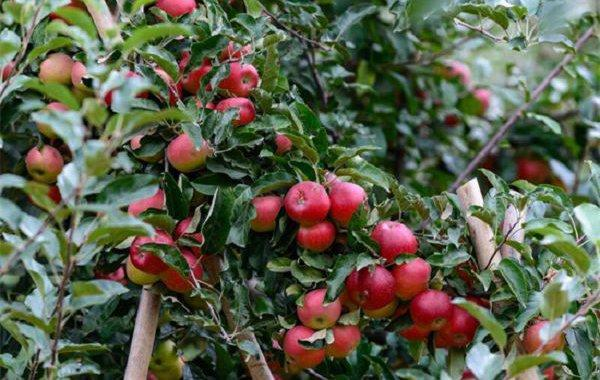apple: (295, 287, 341, 330), (281, 324, 324, 369), (284, 181, 330, 223), (352, 268, 394, 311), (369, 220, 416, 258), (159, 251, 203, 291), (165, 133, 208, 173), (129, 233, 172, 273), (23, 144, 63, 184), (326, 182, 365, 221), (441, 303, 478, 343), (393, 258, 430, 298), (410, 291, 450, 327), (37, 50, 74, 88), (244, 195, 283, 230), (296, 220, 335, 255), (320, 322, 360, 356), (218, 63, 258, 97), (525, 321, 564, 352), (393, 316, 432, 341), (218, 99, 253, 126), (155, 1, 196, 16), (69, 60, 86, 87), (273, 134, 291, 155)
